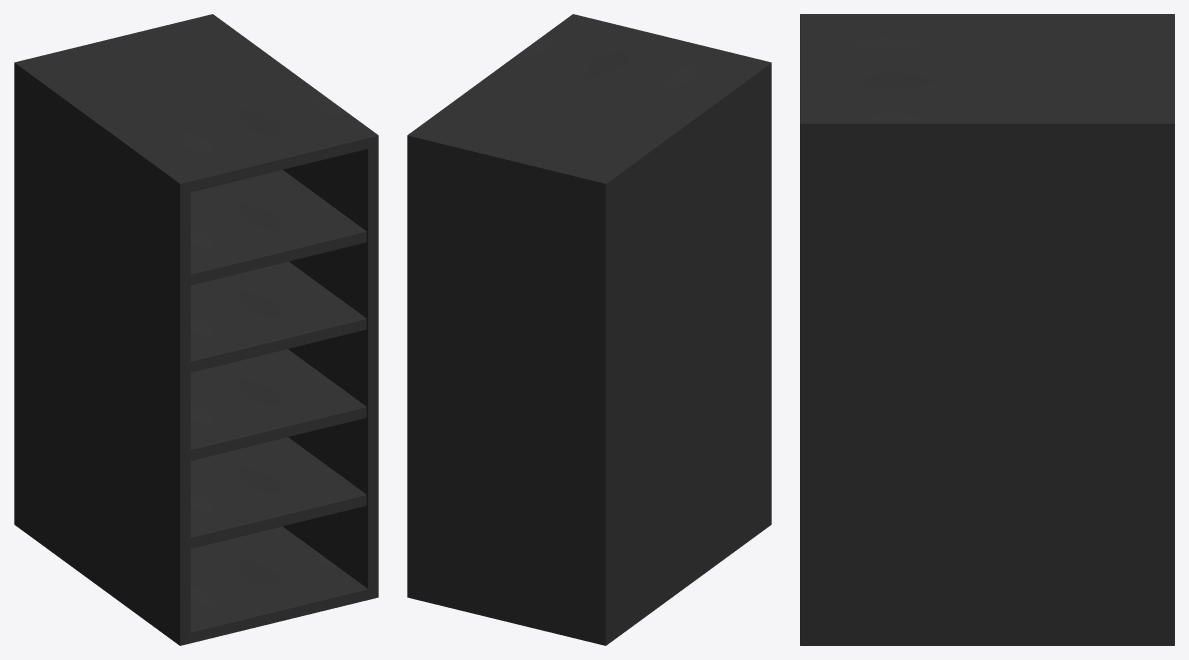
Rendered from switchCabinet.gltf.
The picture shows the model from 3 angles, left to right: view 1: azimuth 30°, elevation 25°; view 2: azimuth 150°, elevation 25°; view 3: azimuth 270°, elevation 25°; orthographic projection. The views are drawn at different scales.
Visible parts, largest first — view 1: Lo-黑色5层架_01; view 2: Lo-黑色5层架_01; view 3: Lo-黑色5层架_01.
Boxes of the visible parts, bbox=[...] form: Lo-黑色5层架_01: bbox=[14, 14, 378, 645]; Lo-黑色5层架_01: bbox=[407, 14, 771, 645]; Lo-黑色5层架_01: bbox=[800, 14, 1174, 645].
Bounding box in the file's own units: 0.9 × 2 × 1.3.
Materials: 1 (1 with a texture image).
